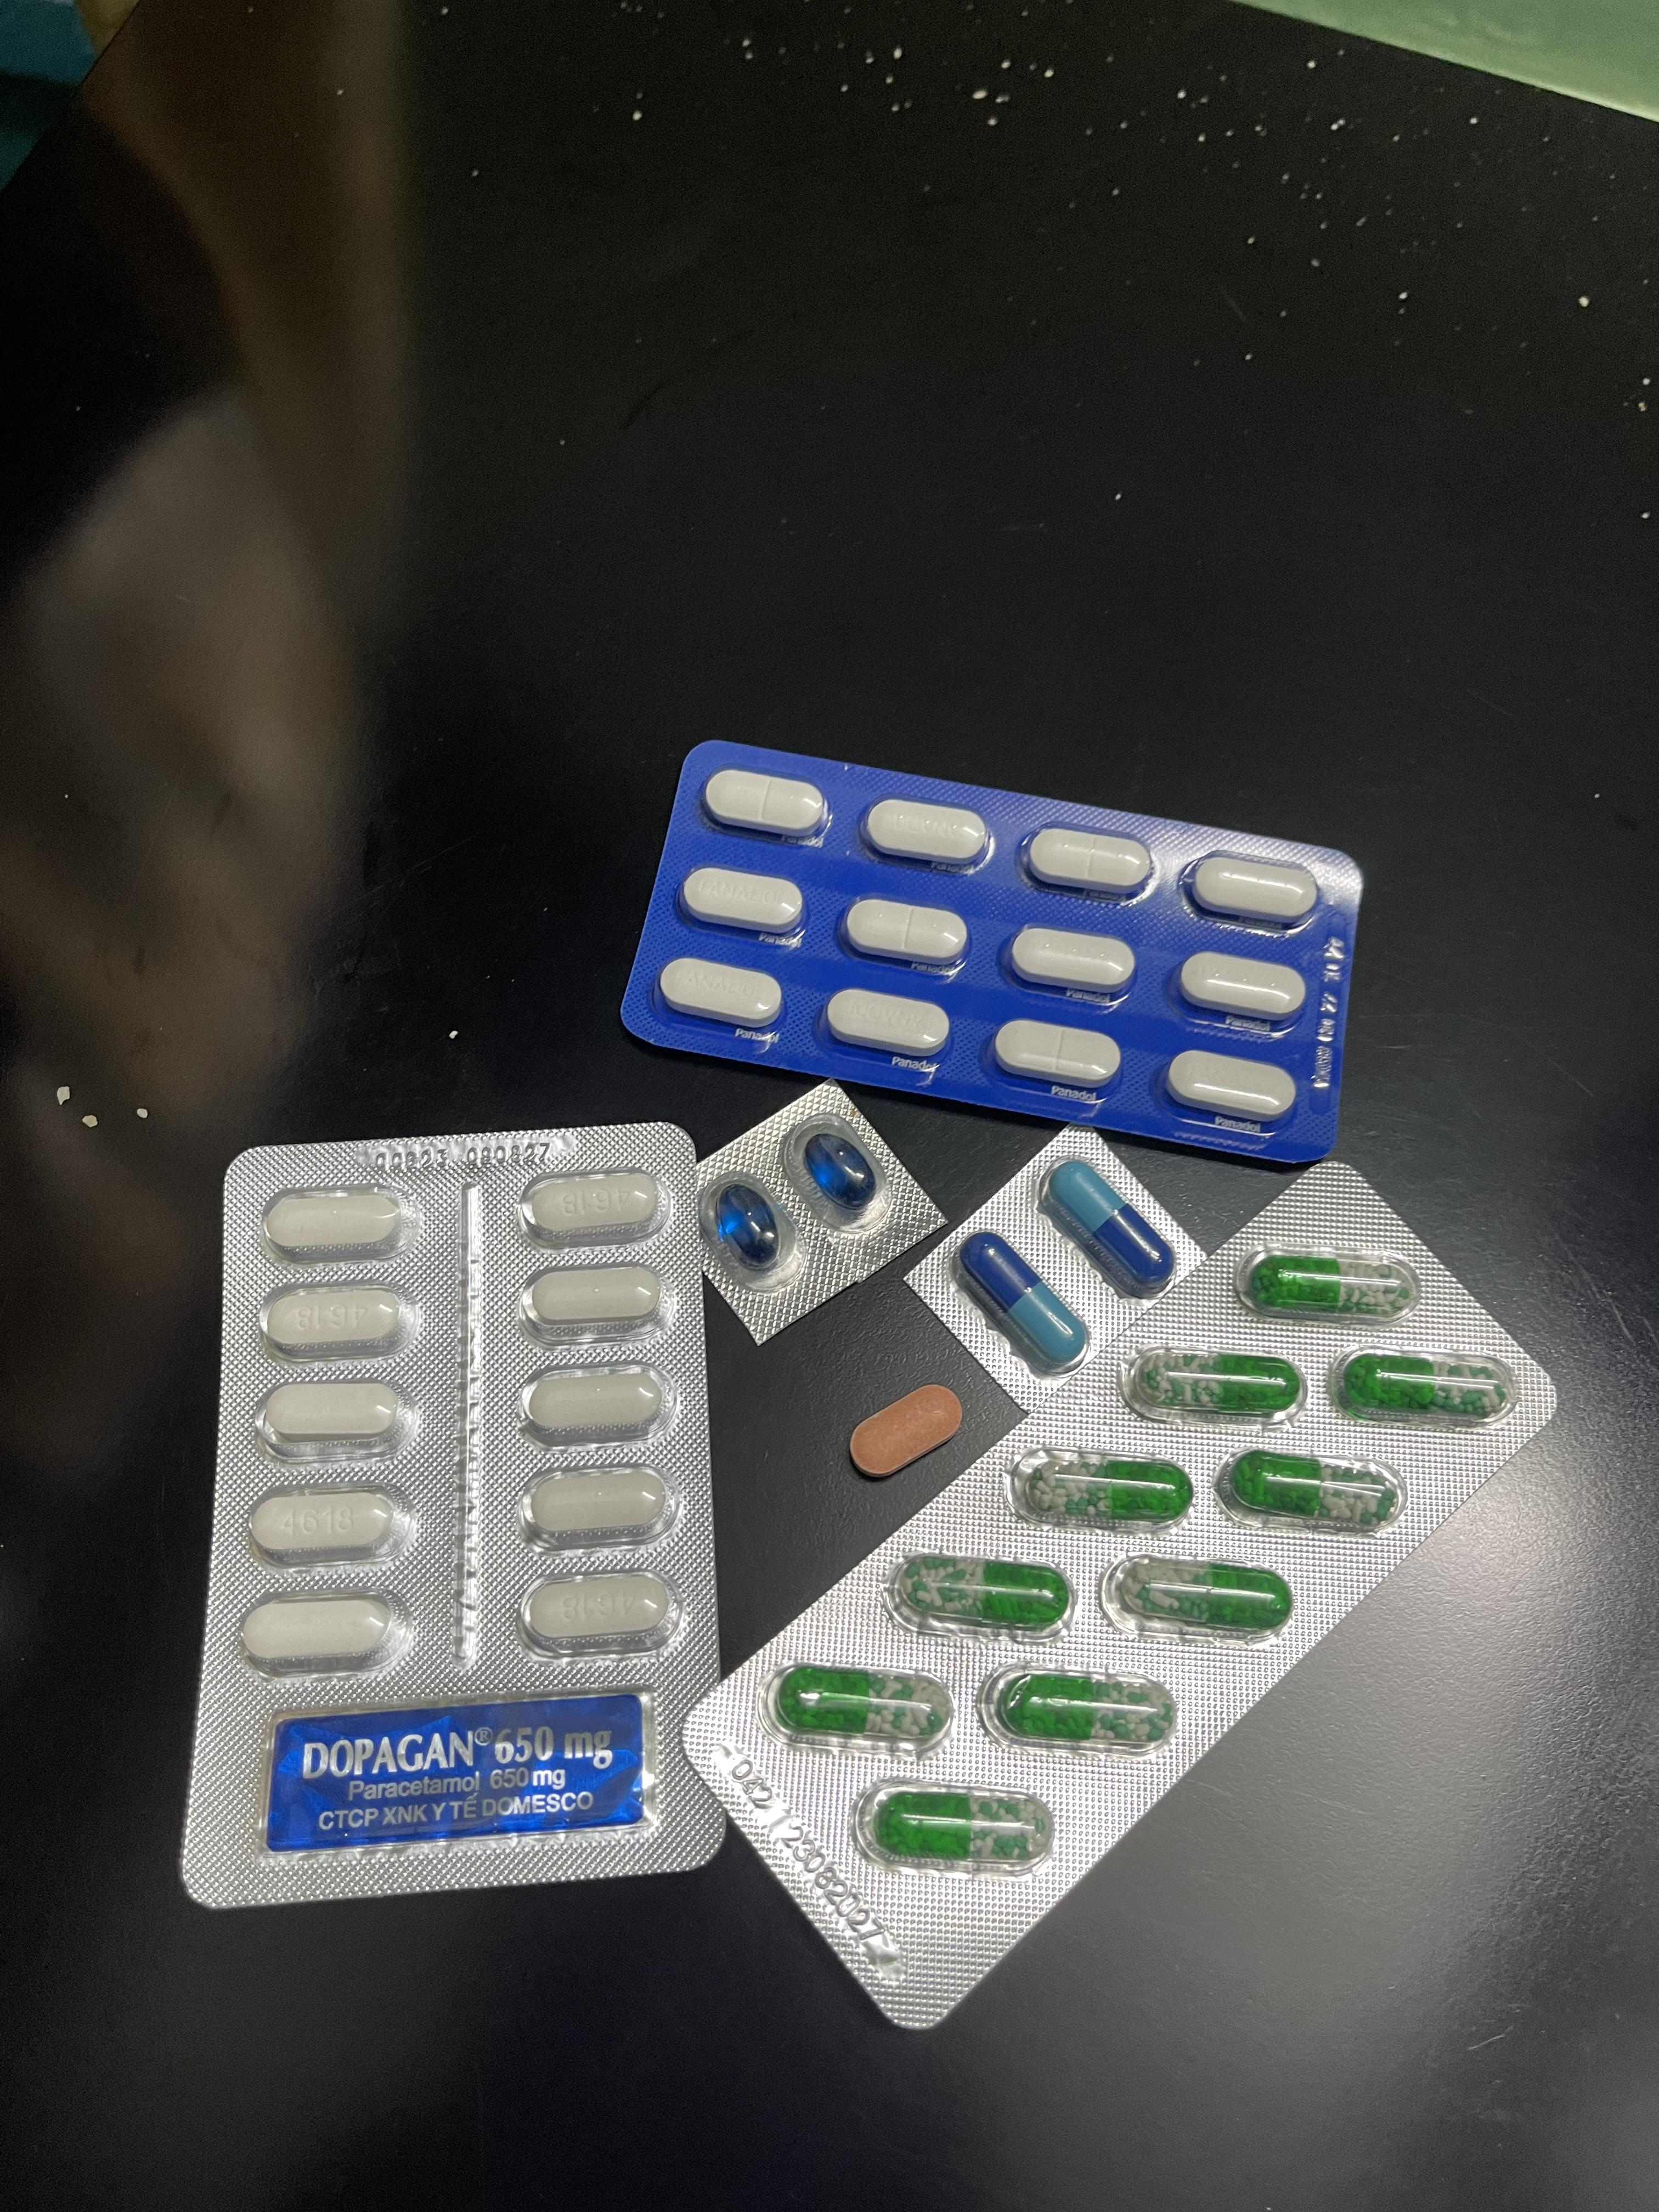Lincomyxin_500mg: (803, 1132, 877, 1209), (718, 1184, 781, 1263)
Loratadine_10mg: (845, 1381, 965, 1480)
Paracetamol_350mg: (1162, 1050, 1298, 1123), (1178, 951, 1310, 1022), (992, 1019, 1124, 1090), (1006, 925, 1140, 995), (861, 798, 992, 869), (1188, 857, 1321, 927), (701, 766, 826, 840), (1023, 827, 1154, 897), (659, 956, 782, 1029), (843, 897, 972, 967), (824, 988, 950, 1057), (678, 867, 802, 935)
Paracetamol_500mg: (239, 1590, 408, 1676), (518, 1569, 678, 1655), (249, 1484, 415, 1564), (521, 1467, 674, 1547), (258, 1379, 413, 1456), (521, 1364, 671, 1442), (263, 1186, 416, 1259), (261, 1284, 416, 1355), (521, 1264, 669, 1338), (519, 1172, 662, 1245)
Paracetamol_650mg: (762, 1662, 945, 1756), (978, 1667, 1171, 1752), (890, 1554, 1073, 1639), (1220, 1449, 1399, 1534), (1009, 1447, 1194, 1529), (1107, 1557, 1291, 1639), (871, 1791, 1040, 1862), (1340, 1355, 1506, 1418), (1248, 1254, 1408, 1315), (1145, 1352, 1300, 1413)
pill: (1040, 1155, 1180, 1296), (955, 1230, 1087, 1372)
